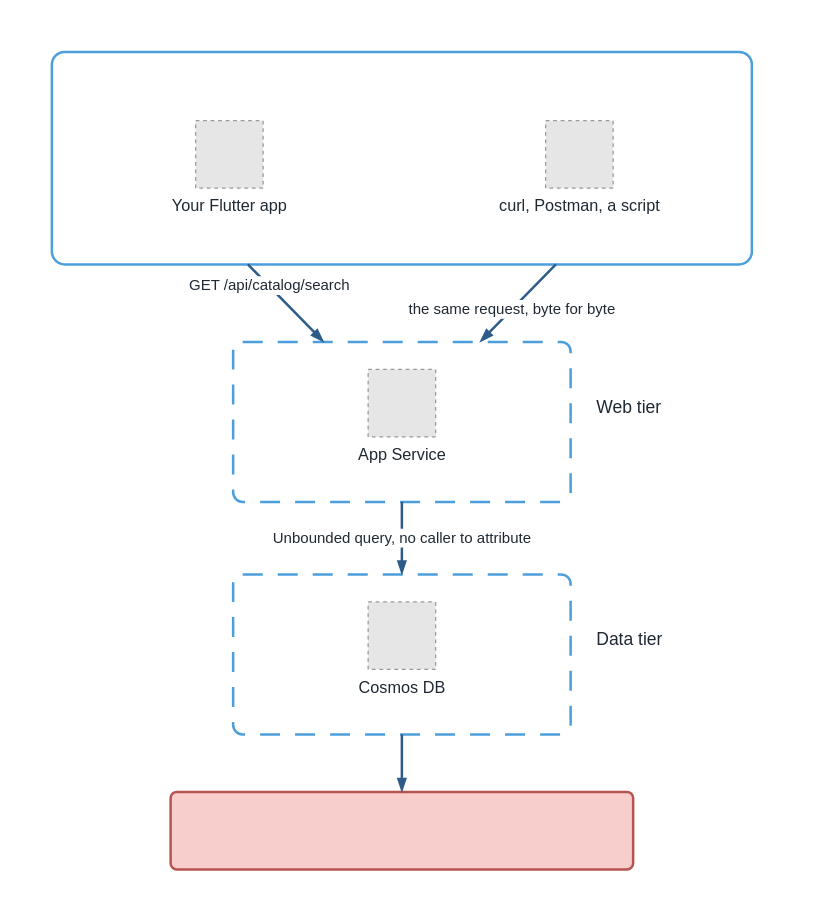
Image size: 833x920. Some labels were removed from this diagram. Grey dashed boxes stand in for pictures. Here are the shapes that lost their labels. From the top down, the box of each, then its label:
(50, 50, 752, 265): Anyone on the internet
(169, 790, 634, 870): 200 OK — the whole catalogue, internal fields included
